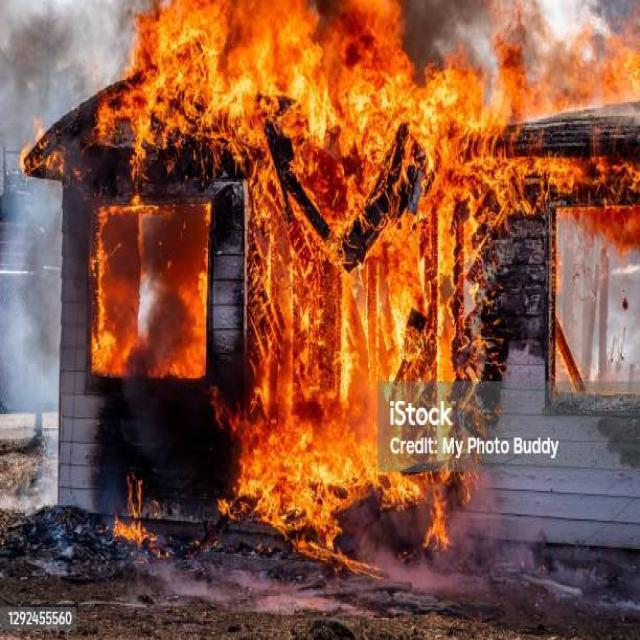Fire: (20, 5, 640, 386), (95, 386, 377, 578)
